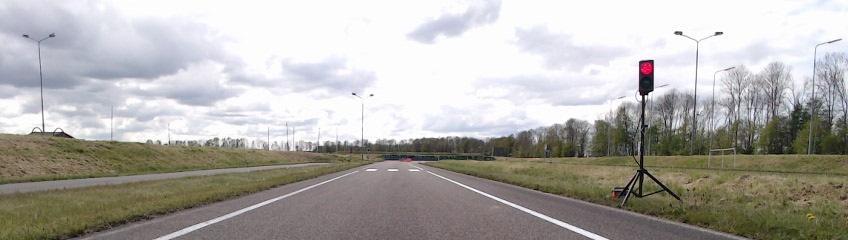TrafficLight-red: (638, 60, 654, 92)
